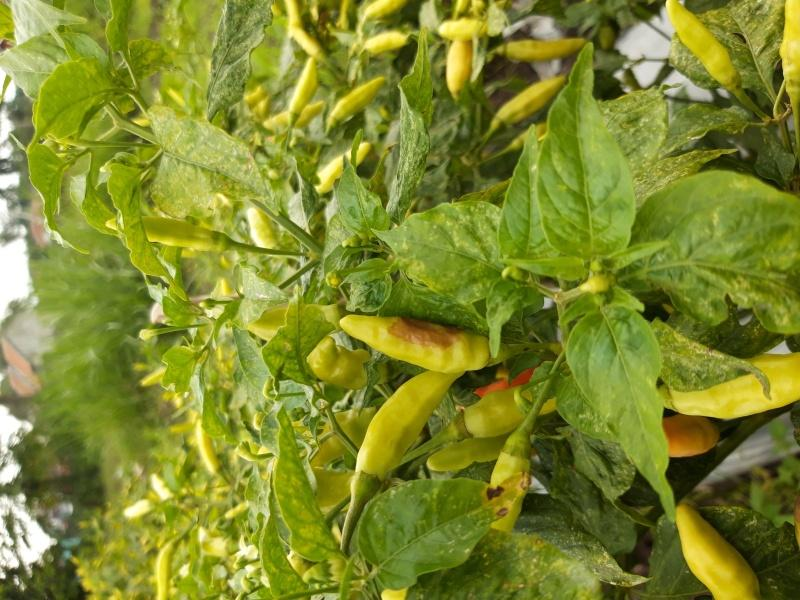antraknosa: (340, 312, 488, 375)
cabai_normal: (352, 368, 459, 481), (673, 353, 800, 418), (676, 504, 757, 600), (463, 379, 559, 439), (666, 1, 734, 84), (110, 212, 217, 251), (309, 336, 373, 391), (484, 456, 528, 532), (310, 142, 371, 196), (499, 77, 564, 123), (652, 415, 719, 458), (329, 77, 387, 122), (506, 36, 590, 62), (289, 56, 321, 114), (780, 1, 800, 91), (446, 39, 475, 99), (439, 17, 486, 41)
